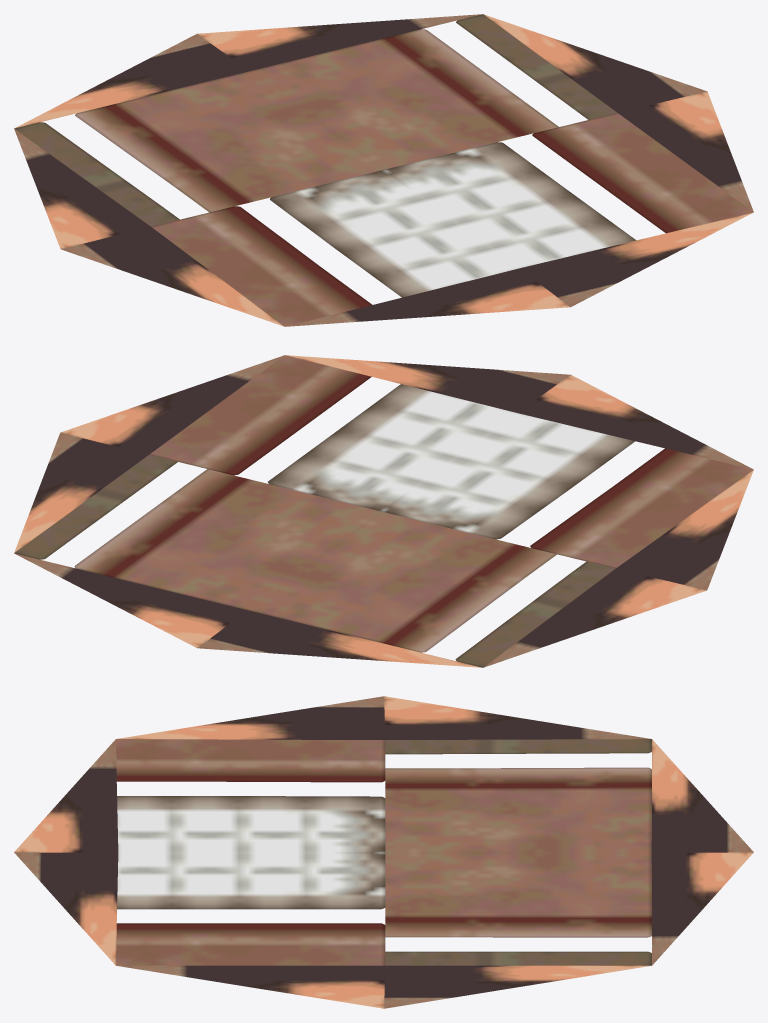
3 renders of one model, top to bottom at view 1: azimuth 30°, elevation 25°; view 2: azimuth 150°, elevation 25°; view 3: azimuth 270°, elevation 25°, orthographic.
Visible parts, largest first — view 1: T1L1M002_11; view 2: T1L1M002_11; view 3: T1L1M002_11.
Part boxes in pixels (x1,y1,x2,y2): T1L1M002_11: [14, 14, 753, 326]; T1L1M002_11: [14, 355, 753, 667]; T1L1M002_11: [14, 696, 753, 1008].
Size of the model in its own units: 2 by 0 by 2.
